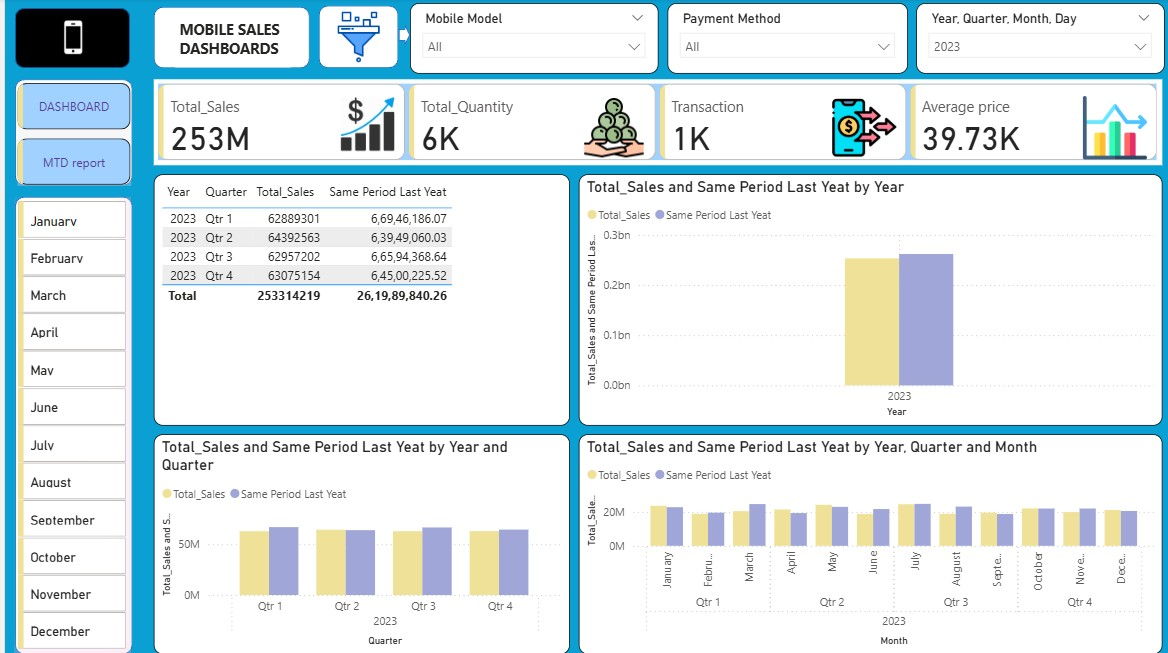

The dashboard page shown, as its layout file describes it:
{"tool":"powerbi","page":{"name":"Same Period Last Year report","canvas":[1280,720],"ordinal":2},"visuals":[{"type":"shape","box":[11,11,126.2,65.9],"z":0},{"type":"shape","box":[11,89.2,129,116.6],"z":1000},{"type":"image","box":[39.8,9.6,70,67.2],"z":2000},{"type":"cardVisual","fields":{"Data":["Sales_data.Total_Sales","Sales_data.Total_Quantity","Custom_Calendar.Transaction","Sales_data.Average price"]},"box":[163.3,89.2,1107.4,94.7],"z":3000},{"type":"slicer","fields":{"Values":["Sales_data.Mobile Model"]},"box":[445,5,272.5,77.5],"z":4000},{"type":"slicer","fields":{"Values":["Sales_data.Payment Method"]},"box":[727.5,5,263.8,77.5],"z":5000},{"type":"slicer","fields":{"Values":["Custom_Calendar.Date.Variation.Date Hierarchy.Year","Custom_Calendar.Date.Variation.Date Hierarchy.Quarter","Custom_Calendar.Date.Variation.Date Hierarchy.Month","Custom_Calendar.Date.Variation.Date Hierarchy.Day"]},"box":[1000,5,272.5,77.5],"z":6000},{"type":"shape","box":[345,8.8,87.5,68.8],"z":7000},{"type":"image","box":[313.8,10,148.8,66.2],"z":8000},{"type":"shape","box":[432.5,27.5,12.5,26.2],"z":9000},{"type":"shape","box":[163.8,10,171.2,67.5],"z":10000},{"type":"textbox","box":[186.2,17.5,127.5,58.8],"z":11000},{"type":"shape","box":[11,218.2,129,502.2],"z":12000},{"type":"advancedSlicerVisual","fields":{"Values":["Custom_Calendar.Date.Variation.Date Hierarchy.Month"]},"box":[9.6,218.2,129,502.2],"z":13000},{"type":"tableEx","fields":{"Values":["Custom_Calendar.Date.Variation.Date Hierarchy.Year","Custom_Calendar.Date.Variation.Date Hierarchy.Quarter","Sales_data.Total_Sales","Sales_data.Same Period Last Yeat"]},"box":[163.3,193.5,456.9,275.8],"z":14000},{"type":"clusteredColumnChart","fields":{"Category":["Custom_Calendar.Date.Variation.Date Hierarchy.Year","Custom_Calendar.Date.Variation.Date Hierarchy.Quarter"],"Y":["Sales_data.Total_Sales","Sales_data.Same Period Last Yeat"]},"box":[629.8,193.5,640.8,275.8],"z":15000},{"type":"clusteredColumnChart","fields":{"Category":["Custom_Calendar.Date.Variation.Date Hierarchy.Year","Custom_Calendar.Date.Variation.Date Hierarchy.Quarter"],"Y":["Sales_data.Total_Sales","Sales_data.Same Period Last Yeat"]},"box":[163.3,478.9,456.9,241.5],"z":16000},{"type":"clusteredColumnChart","fields":{"Y":["Sales_data.Total_Sales","Sales_data.Same Period Last Yeat"],"Category":["Custom_Calendar.Date.Variation.Date Hierarchy.Year","Custom_Calendar.Date.Variation.Date Hierarchy.Quarter","Custom_Calendar.Date.Variation.Date Hierarchy.Month","Custom_Calendar.Date.Variation.Date Hierarchy.Day"]},"box":[629.8,478.9,640.8,241.5],"z":17000},{"type":"pageNavigator","box":[13.7,93.3,124.9,112.5],"z":18000}]}

Visuals, with their boxes in screenshot pixels (x1, y1, x2, y2), scaled from the page's 1280x720 canvas onto the 1168x653 screenshot:
shape: l=10, t=10, r=125, b=70
shape: l=10, t=81, r=128, b=187
image: l=36, t=9, r=100, b=70
cardVisual - Sales_data.Total_Sales x Sales_data.Total_Quantity: l=149, t=81, r=1160, b=167
slicer - Sales_data.Mobile Model: l=406, t=5, r=655, b=75
slicer - Sales_data.Payment Method: l=664, t=5, r=905, b=75
slicer - Custom_Calendar.Date.Variation.Date Hierarchy.Year x Custom_Calendar.Date.Variation.Date Hierarchy.Quarter: l=912, t=5, r=1161, b=75
shape: l=315, t=8, r=395, b=70
image: l=286, t=9, r=422, b=69
shape: l=395, t=25, r=406, b=49
shape: l=149, t=9, r=306, b=70
textbox: l=170, t=16, r=286, b=69
shape: l=10, t=198, r=128, b=652
advancedSlicerVisual - Custom_Calendar.Date.Variation.Date Hierarchy.Month: l=9, t=198, r=126, b=652
tableEx - Custom_Calendar.Date.Variation.Date Hierarchy.Year x Custom_Calendar.Date.Variation.Date Hierarchy.Quarter: l=149, t=175, r=566, b=426
clusteredColumnChart - Custom_Calendar.Date.Variation.Date Hierarchy.Year x Custom_Calendar.Date.Variation.Date Hierarchy.Quarter: l=575, t=175, r=1159, b=426
clusteredColumnChart - Custom_Calendar.Date.Variation.Date Hierarchy.Year x Custom_Calendar.Date.Variation.Date Hierarchy.Quarter: l=149, t=434, r=566, b=652
clusteredColumnChart - Sales_data.Total_Sales x Sales_data.Same Period Last Yeat: l=575, t=434, r=1159, b=652
pageNavigator: l=13, t=85, r=126, b=187
